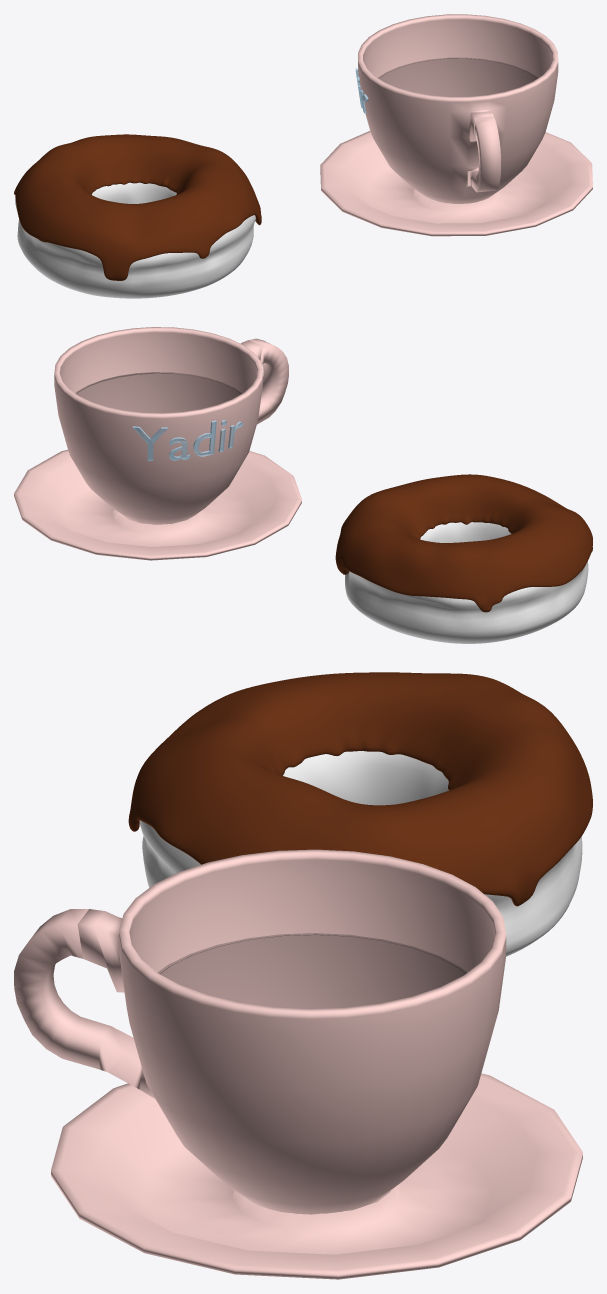
File: donuts.gltf
3 views of the same model, one above another, from view 1: azimuth 30°, elevation 25°; view 2: azimuth 150°, elevation 25°; view 3: azimuth 270°, elevation 25° (orthographic). The views are drawn at different scales.
Visible parts, largest first — view 1: Cup.004, Icing; view 2: Cup.004, Icing; view 3: Cup.004, Icing.
Boxes of the visible parts, <box> form: Cup.004: <box>320,14,592,236</box>; Icing: <box>14,134,261,298</box>; Cup.004: <box>14,327,301,560</box>; Icing: <box>335,474,592,643</box>; Cup.004: <box>14,849,582,1279</box>; Icing: <box>128,672,592,956</box>.
Size of the model in its own units: 0.3662 by 0.0923 by 0.179.
